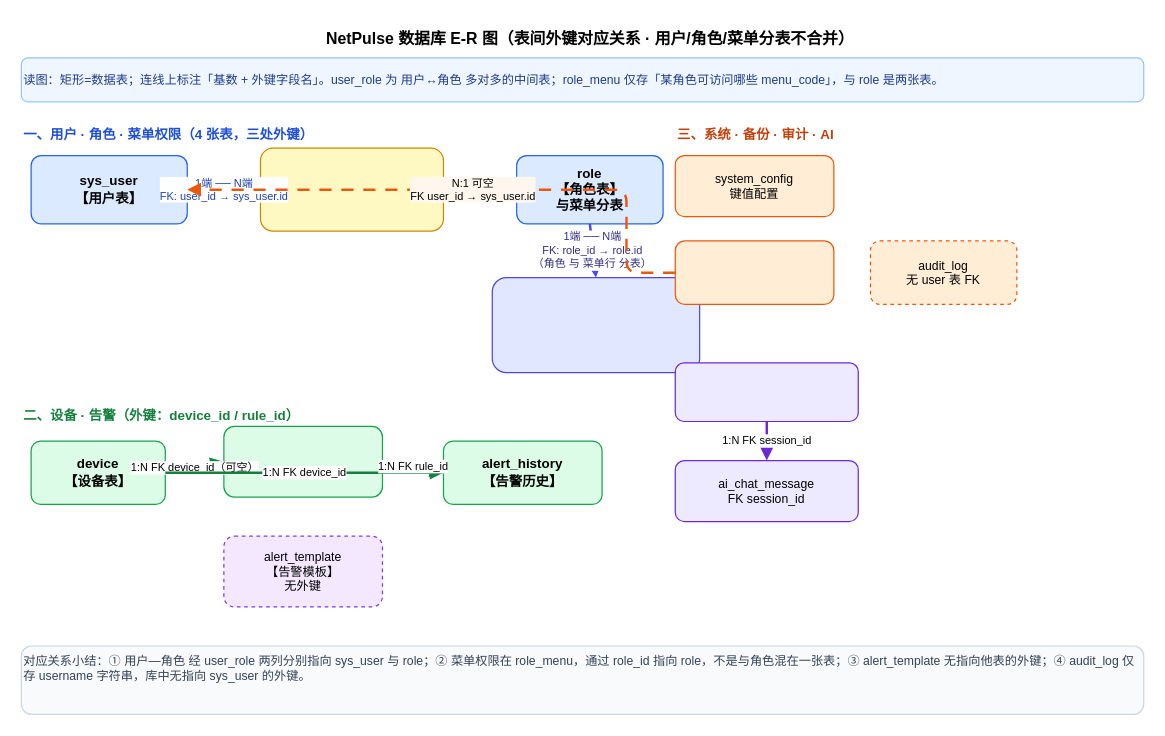
Image size: 1165x736. Some labels were removed from this diagram. The centre of each missing label's shape, as x and y in pixels:
"ai_chat_session" goes at point (766, 392).
"alert_rule 【告警规则】 device_id 可空" goes at point (302, 461).
"config_backup FK user_id 可空" goes at point (754, 272).
"role_menu 【角色-菜单权限表】 FK: role_id 列: menu_code" goes at point (595, 324).
"user_role 【中间表 M:N】 PK: user_id+role_id" goes at point (351, 189).
